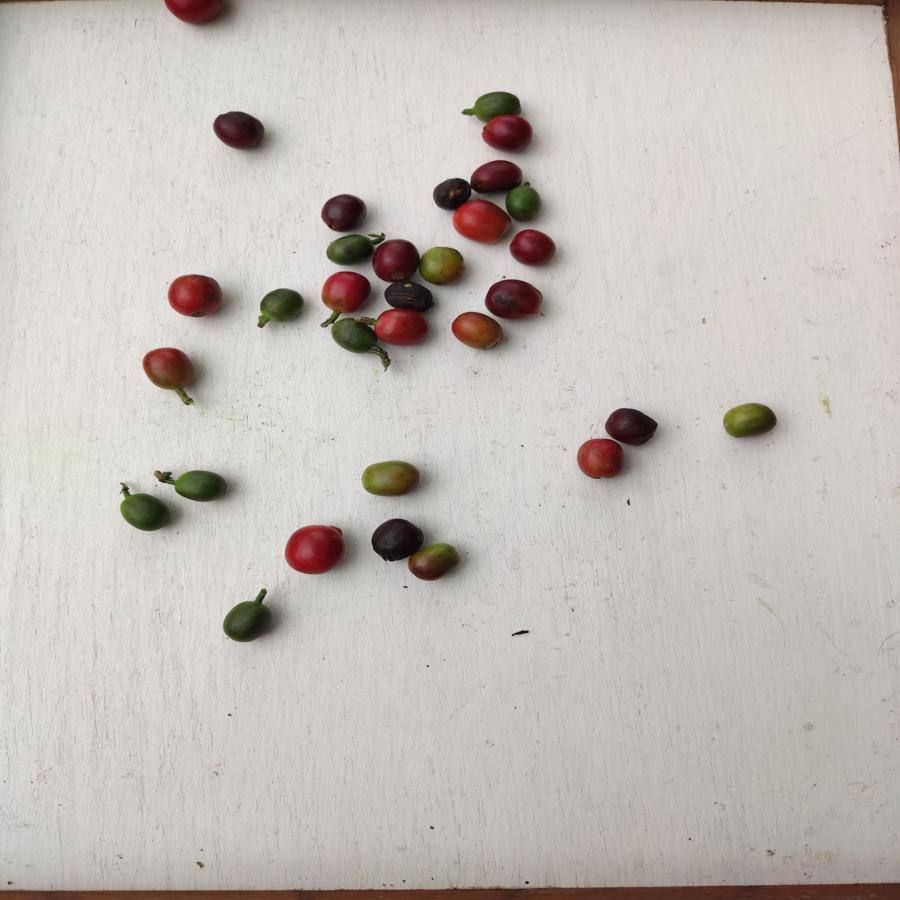Inmaduro: (220, 599, 272, 645), (120, 491, 172, 531), (174, 469, 229, 505), (329, 313, 374, 354), (257, 286, 305, 323), (327, 232, 372, 268), (505, 184, 542, 223), (469, 89, 524, 115)
Maduro: (284, 524, 348, 574), (166, 273, 224, 321), (575, 434, 627, 484), (452, 201, 508, 244), (321, 273, 373, 313), (378, 310, 427, 349)
Pinton: (143, 349, 199, 394), (450, 310, 506, 352), (361, 459, 421, 497), (721, 402, 777, 438), (420, 245, 466, 285), (410, 545, 462, 580)
Sobremaduro: (211, 106, 267, 152), (484, 276, 545, 318), (603, 407, 658, 447), (369, 519, 420, 559), (509, 228, 557, 268), (478, 117, 535, 150), (373, 238, 418, 279), (470, 160, 524, 194), (319, 194, 371, 229), (387, 279, 431, 310), (434, 179, 468, 206)
